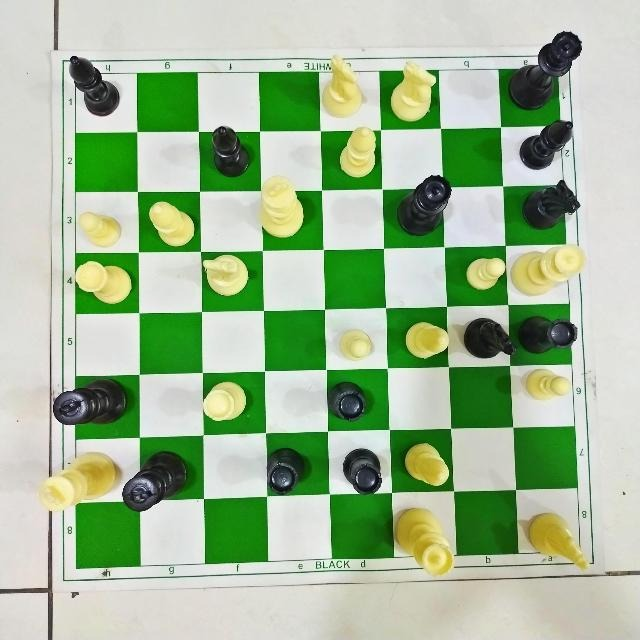black-bishop: (61, 53, 125, 117), (200, 122, 262, 182), (518, 116, 575, 173)
black-king: (117, 447, 200, 519), (47, 376, 137, 442)
black-knight: (514, 178, 583, 236), (459, 310, 521, 368)
black-queen: (507, 25, 588, 113), (398, 172, 458, 236)
black-rook: (520, 307, 582, 359), (336, 441, 390, 498), (263, 443, 315, 500), (325, 378, 375, 424)
white-bishop: (141, 197, 198, 250), (398, 437, 454, 489), (337, 124, 380, 178), (401, 317, 448, 361)
white-king: (37, 450, 117, 516), (257, 174, 308, 238)
white-knight: (525, 505, 596, 574), (385, 61, 440, 124), (321, 53, 367, 119), (203, 251, 255, 299)
white-pawn: (72, 206, 127, 250), (519, 366, 574, 408), (335, 324, 380, 370), (464, 251, 509, 295)
white-queen: (388, 499, 460, 580), (511, 240, 589, 304)
white-rook: (72, 257, 137, 310), (200, 376, 255, 428)
